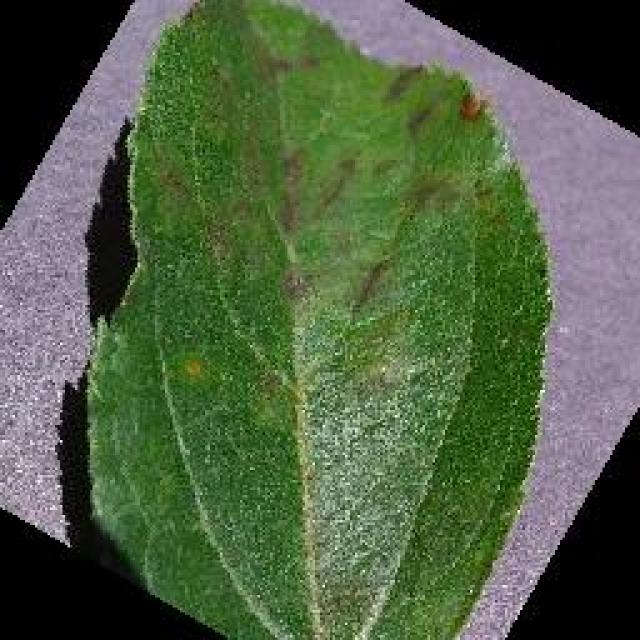apple scab disease: (77, 0, 555, 638)
